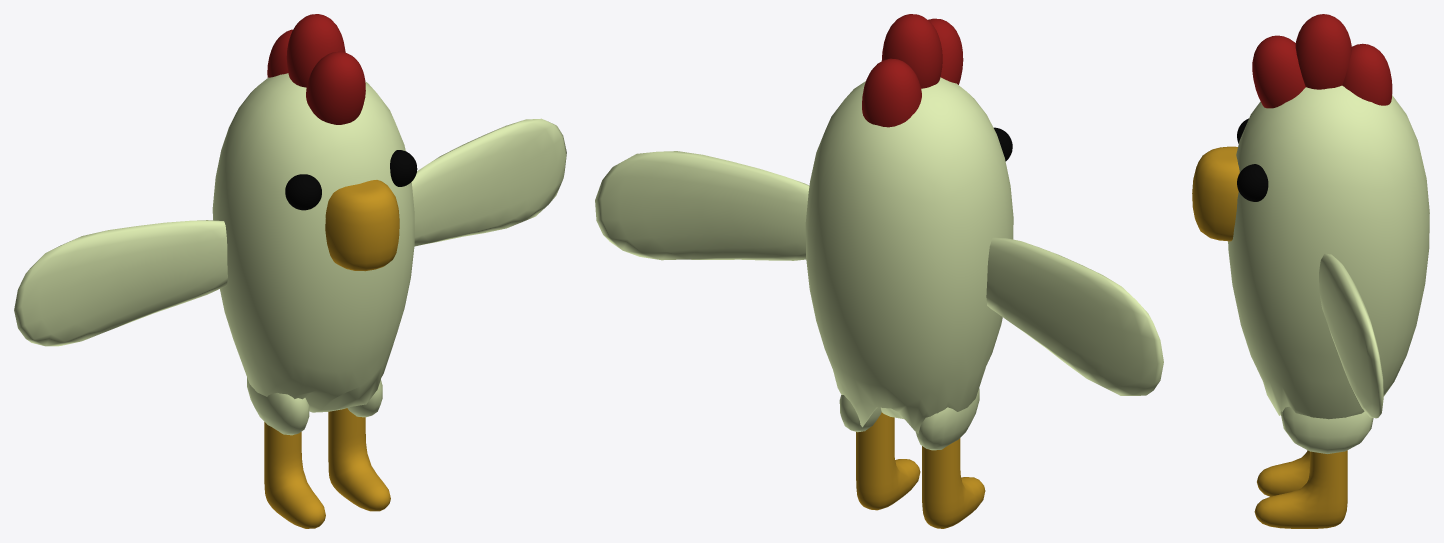
Rendered from ChickenPickle .fbx.
3 renders of one model, left to right at view 1: azimuth 30°, elevation 25°; view 2: azimuth 150°, elevation 25°; view 3: azimuth 270°, elevation 25°, orthographic. The views are drawn at different scales.
Parts seen in each view (by area): view 1: Cube, Cube.005, Cube.006, Cube.004, Plane.001, Plane, Cube.001, Cube.002, Cube.007, Sphere, Sphere.001, Cube.003; view 2: Cube, Cube.006, Cube.005, Plane.001, Plane, Cube.003, Cube.002, Cube.007, Cube.001, Cube.008; view 3: Cube, Cube.006, Plane.001, Cube.004, Cube.002, Cube.001, Cube.008, Cube.003, Plane, Sphere.001.
Part boxes in pixels (bbox=[...]): Cube: bbox=[212, 73, 414, 412]; Cube.005: bbox=[14, 220, 227, 346]; Cube.006: bbox=[411, 118, 566, 246]; Cube.004: bbox=[325, 180, 399, 271]; Plane.001: bbox=[328, 408, 390, 511]; Plane: bbox=[264, 422, 325, 528]; Cube.001: bbox=[306, 51, 365, 124]; Cube.002: bbox=[286, 14, 345, 87]; Cube.007: bbox=[247, 377, 309, 435]; Sphere: bbox=[285, 174, 321, 210]; Sphere.001: bbox=[390, 150, 417, 186]; Cube.003: bbox=[267, 29, 292, 77]; Cube: bbox=[805, 77, 1013, 433]; Cube.006: bbox=[595, 151, 809, 260]; Cube.005: bbox=[986, 237, 1163, 395]; Plane.001: bbox=[856, 412, 920, 510]; Plane: bbox=[922, 438, 985, 528]; Cube.003: bbox=[862, 58, 921, 127]; Cube.002: bbox=[881, 14, 942, 88]; Cube.007: bbox=[915, 388, 979, 450]; Cube.001: bbox=[928, 18, 963, 84]; Cube.008: bbox=[839, 395, 881, 432]; Cube: bbox=[1228, 85, 1429, 419]; Cube.006: bbox=[1319, 253, 1383, 418]; Plane.001: bbox=[1254, 450, 1347, 528]; Cube.004: bbox=[1192, 146, 1239, 241]; Cube.002: bbox=[1295, 14, 1351, 89]; Cube.001: bbox=[1252, 35, 1305, 108]; Cube.008: bbox=[1280, 406, 1373, 453]; Cube.003: bbox=[1342, 43, 1392, 105]; Plane: bbox=[1257, 450, 1309, 496]; Sphere.001: bbox=[1237, 164, 1268, 201].
Bounding box in the file's own units: 454 × 383 × 166.
